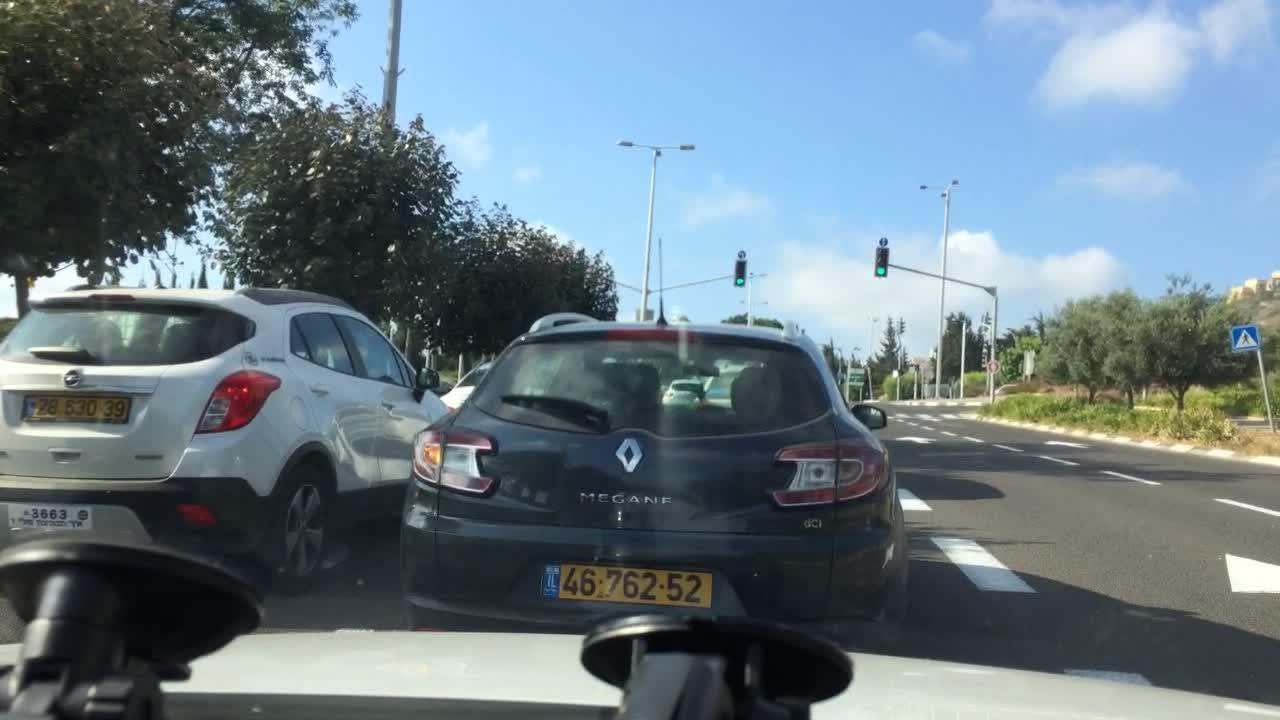Renault: (609, 427, 649, 487)
kia: (60, 366, 90, 392)
